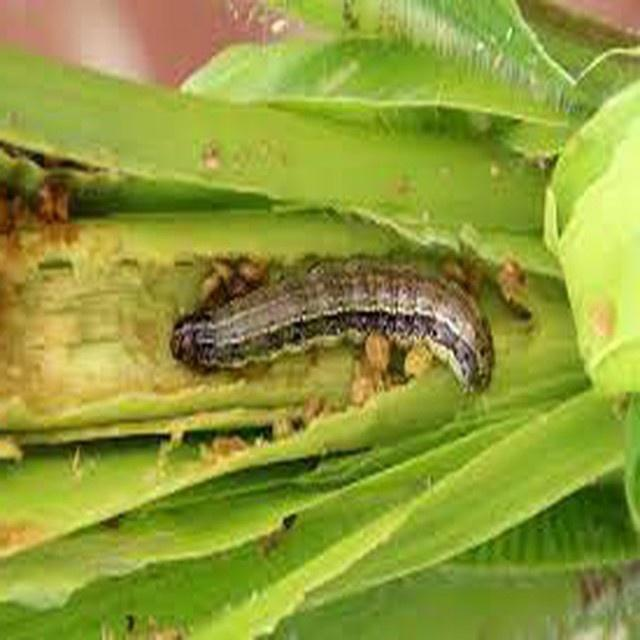gusano_cogollero: (166, 266, 494, 392)
